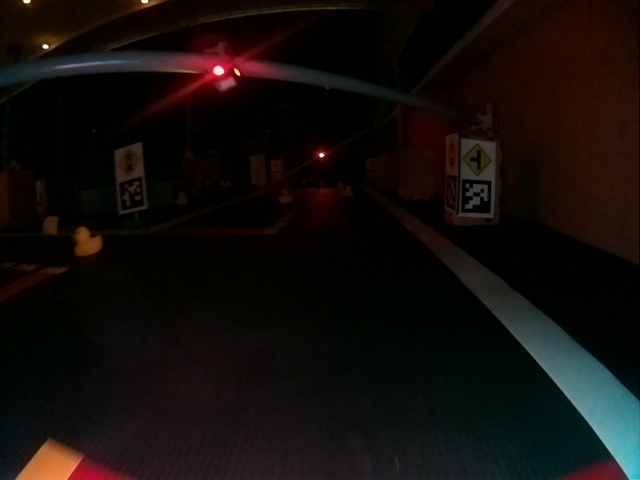Duckie: (72, 227, 103, 256), (279, 190, 293, 202)
Intersection sign: (462, 142, 492, 177)
QR code: (463, 181, 491, 213), (120, 179, 145, 212), (444, 178, 457, 212)
Signal sign: (116, 149, 139, 174)
Traffic light: (207, 58, 241, 92), (317, 151, 326, 161)
